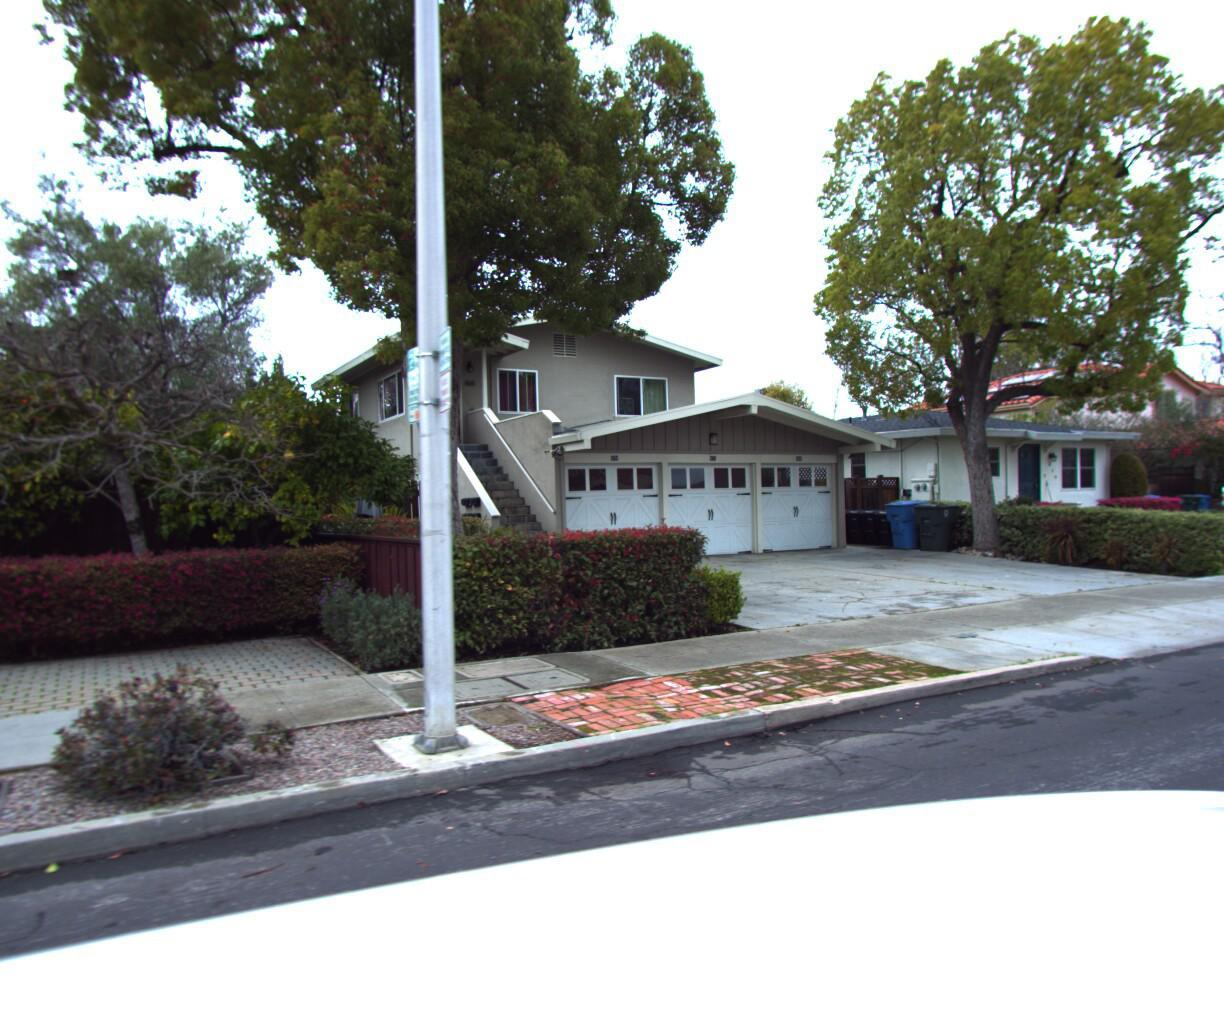car: (1211, 465, 1224, 546)
